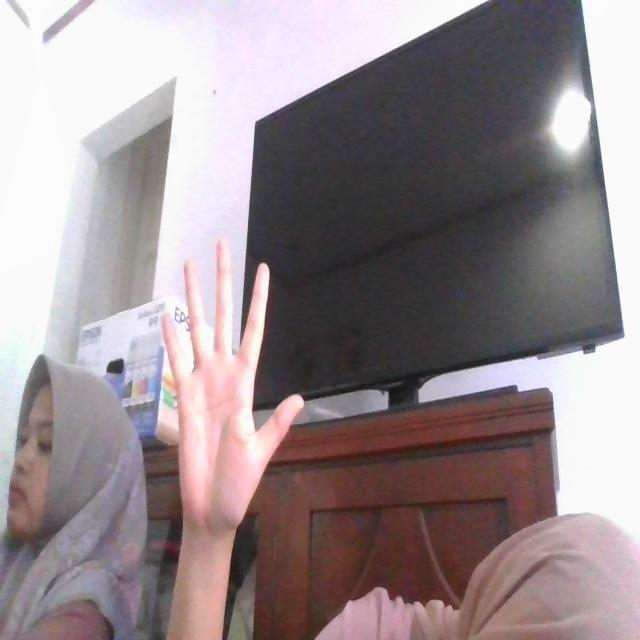hand: (158, 238, 305, 555)
